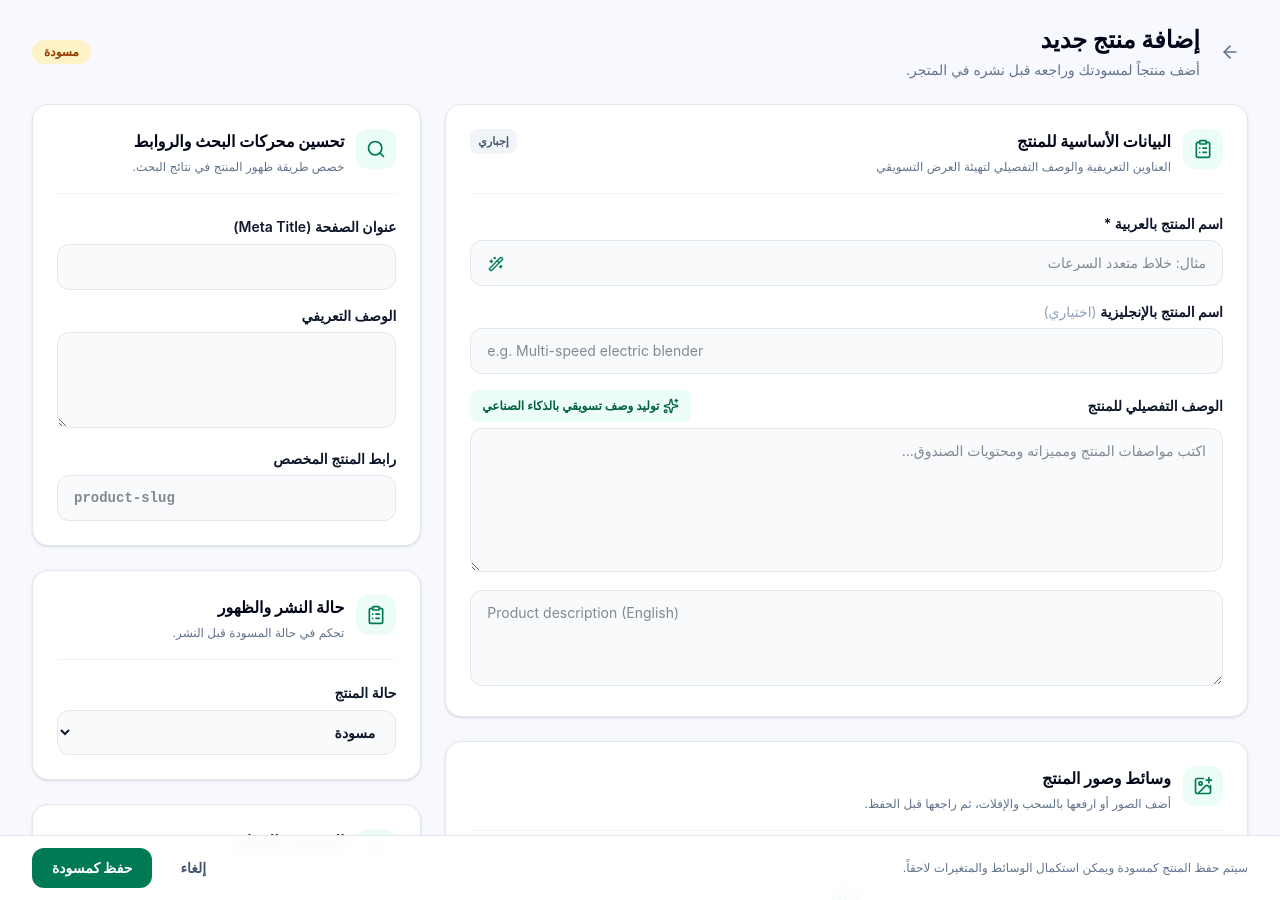
Test case: New seller product slug generation › updates the complete slug while the product name is being entered
Expected: the heading "إضافة منتج جديد" is shown, [1040, 25, 1200, 54]
Type "P" into the field with test id "product-name-en".
click(847, 351); type("P")  # box [470, 328, 1223, 374]
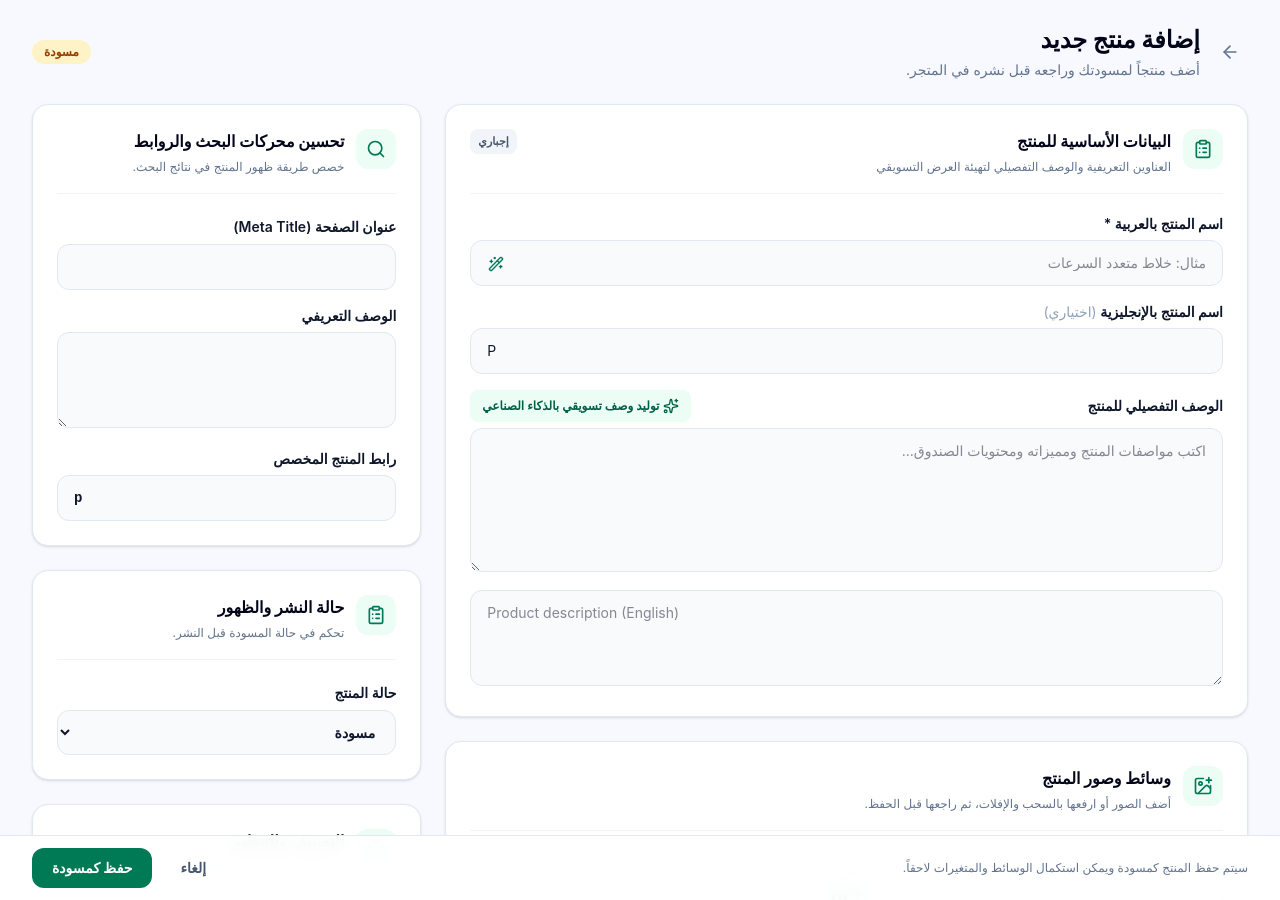
Replace the text in the field with test id "product-name-en" with "Pr" at [847, 351], box [470, 328, 1223, 374]
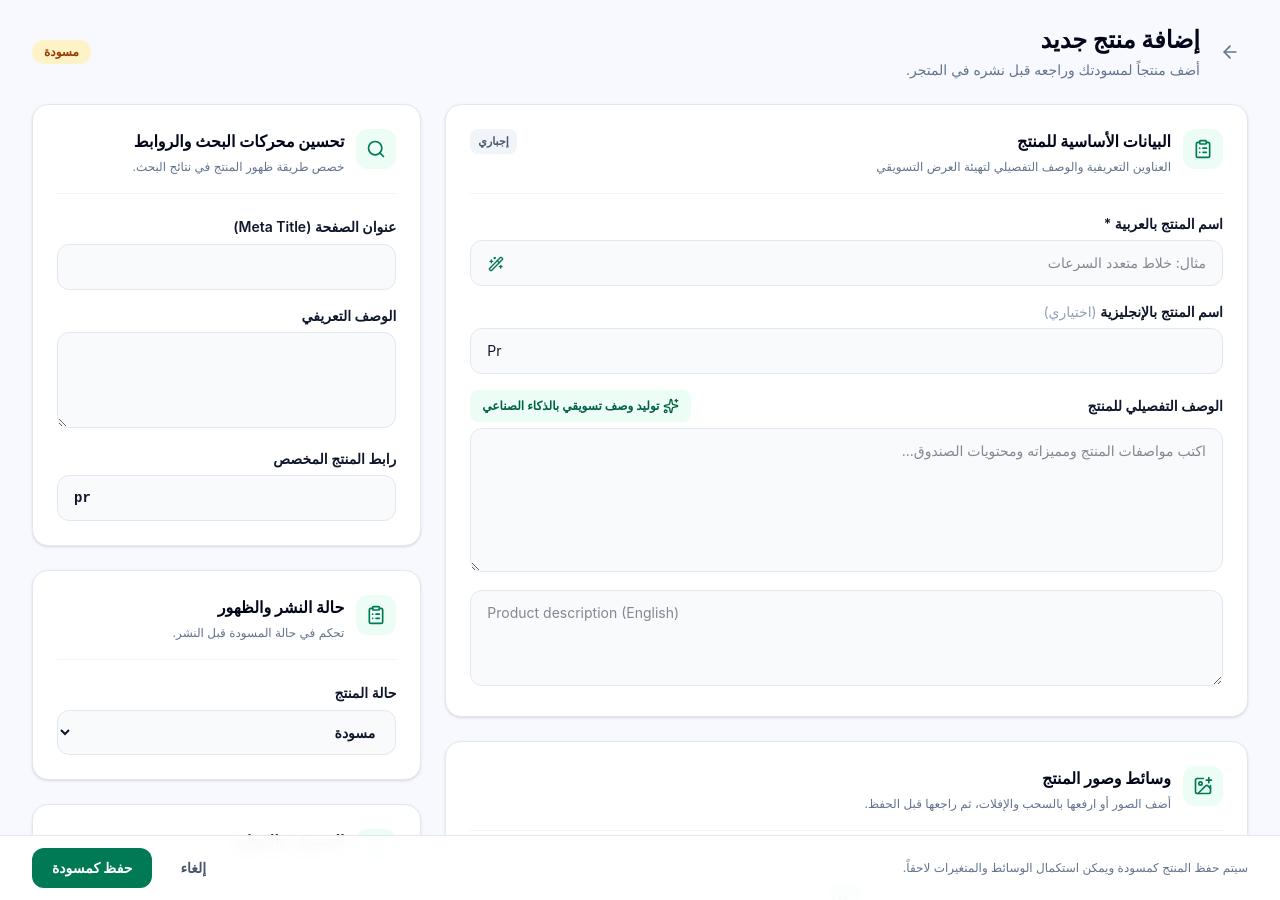
Replace the text in the field with test id "product-name-en" with "Pre" at [847, 351], box [470, 328, 1223, 374]
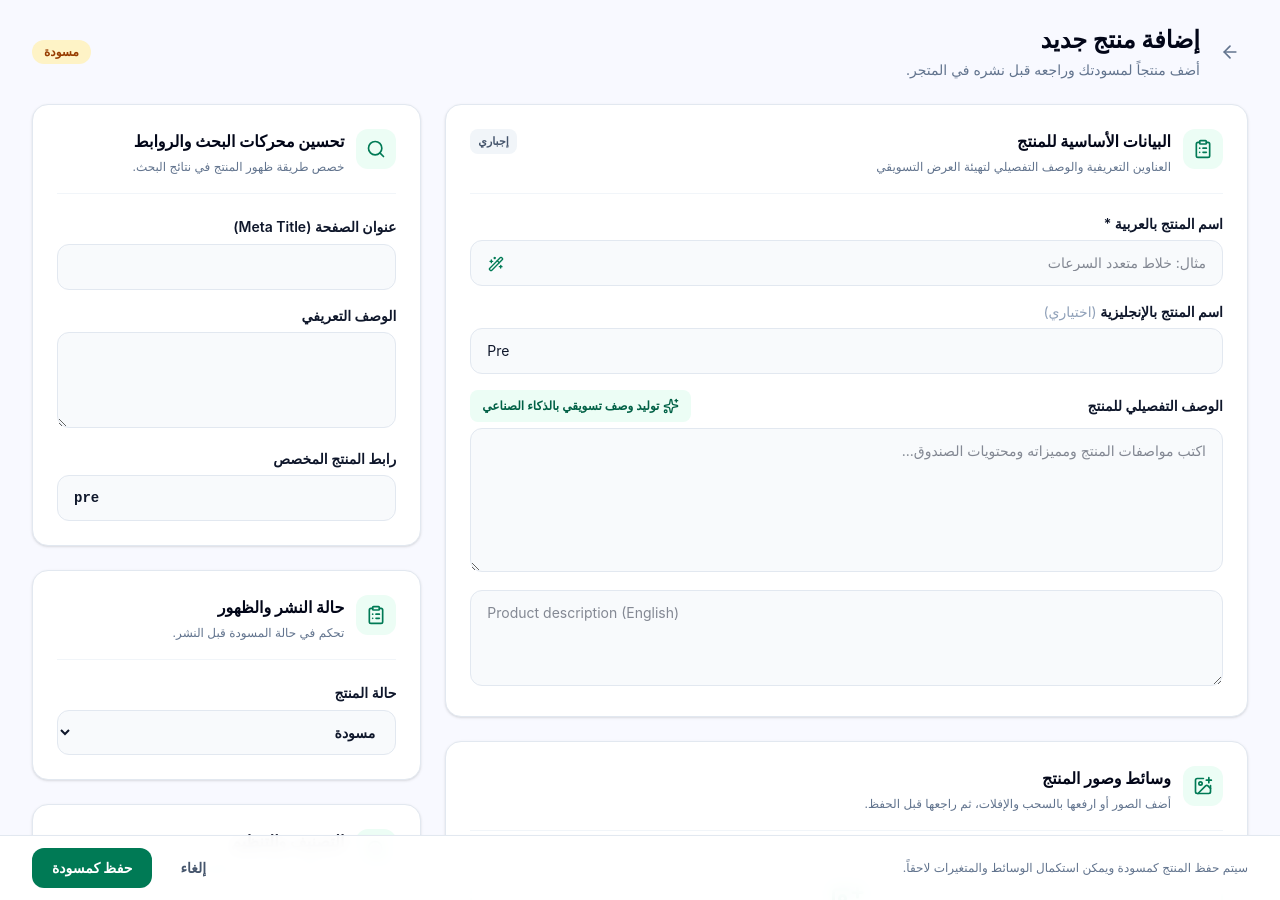
Replace the text in the field with test id "product-name-en" with "Premium" at [847, 351], box [470, 328, 1223, 374]
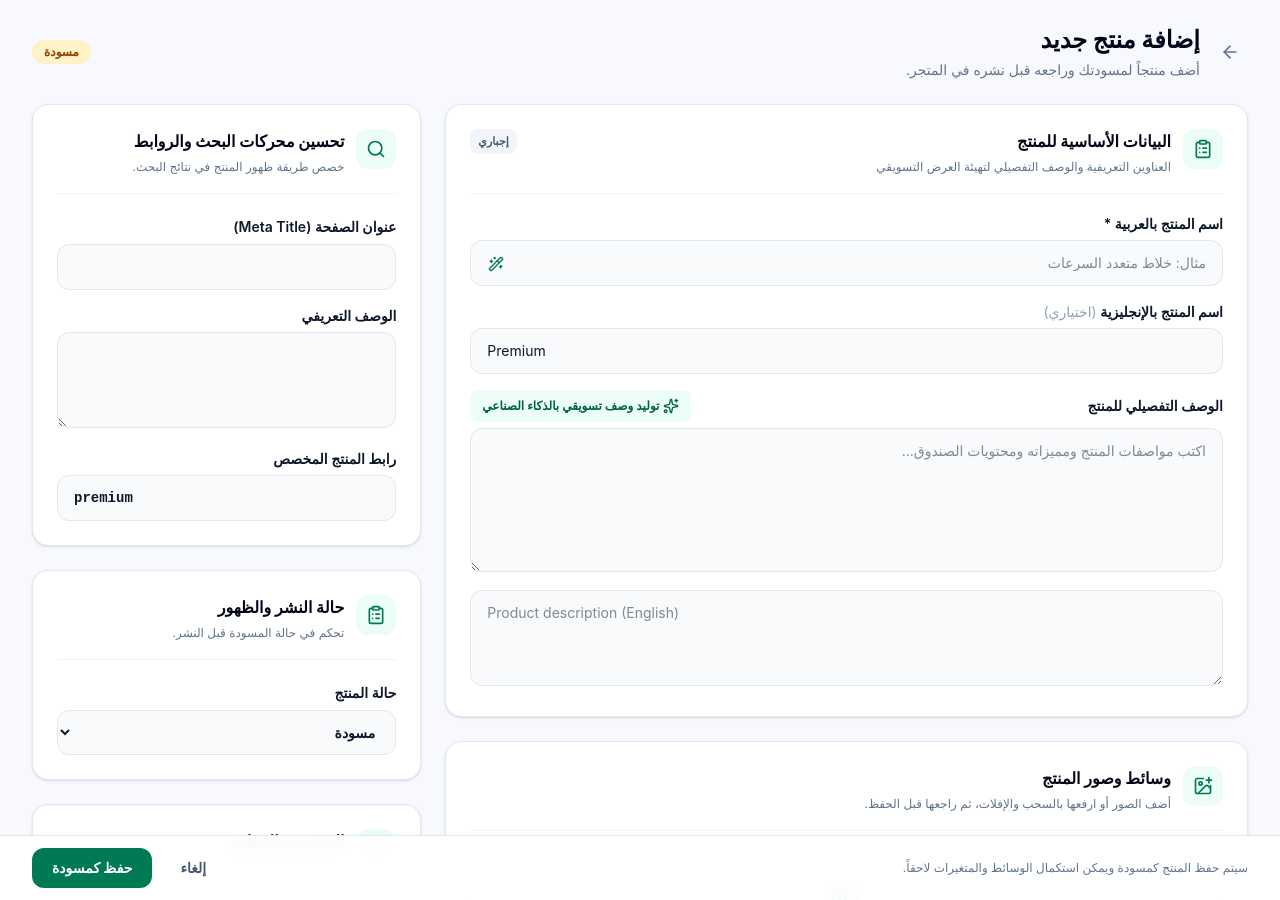
Replace the text in the field with test id "product-name-en" with "Premium Cotton" at [847, 351], box [470, 328, 1223, 374]
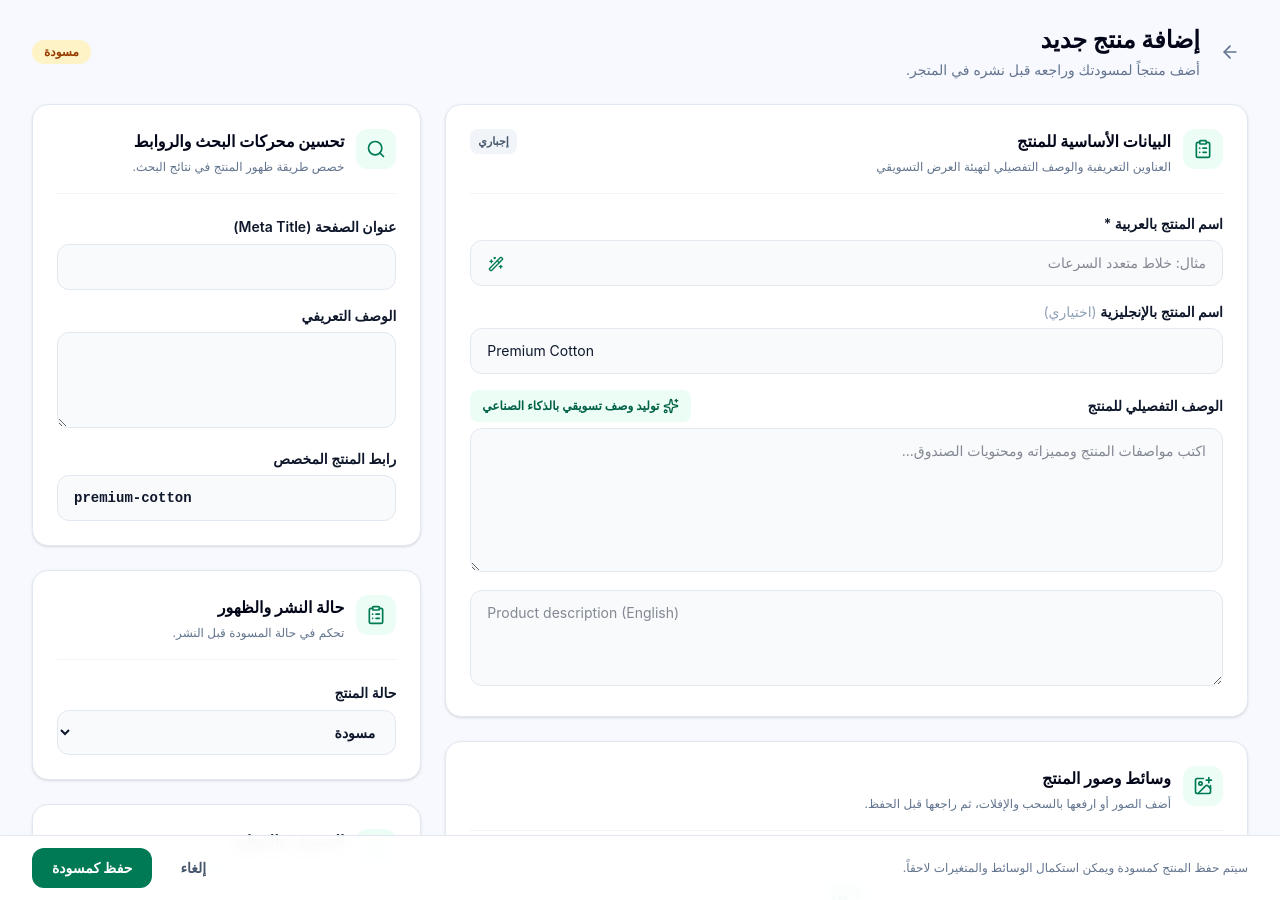
Replace the text in the field with test id "product-name-en" with "Premium Cotton T-Shirt" at [847, 351], box [470, 328, 1223, 374]
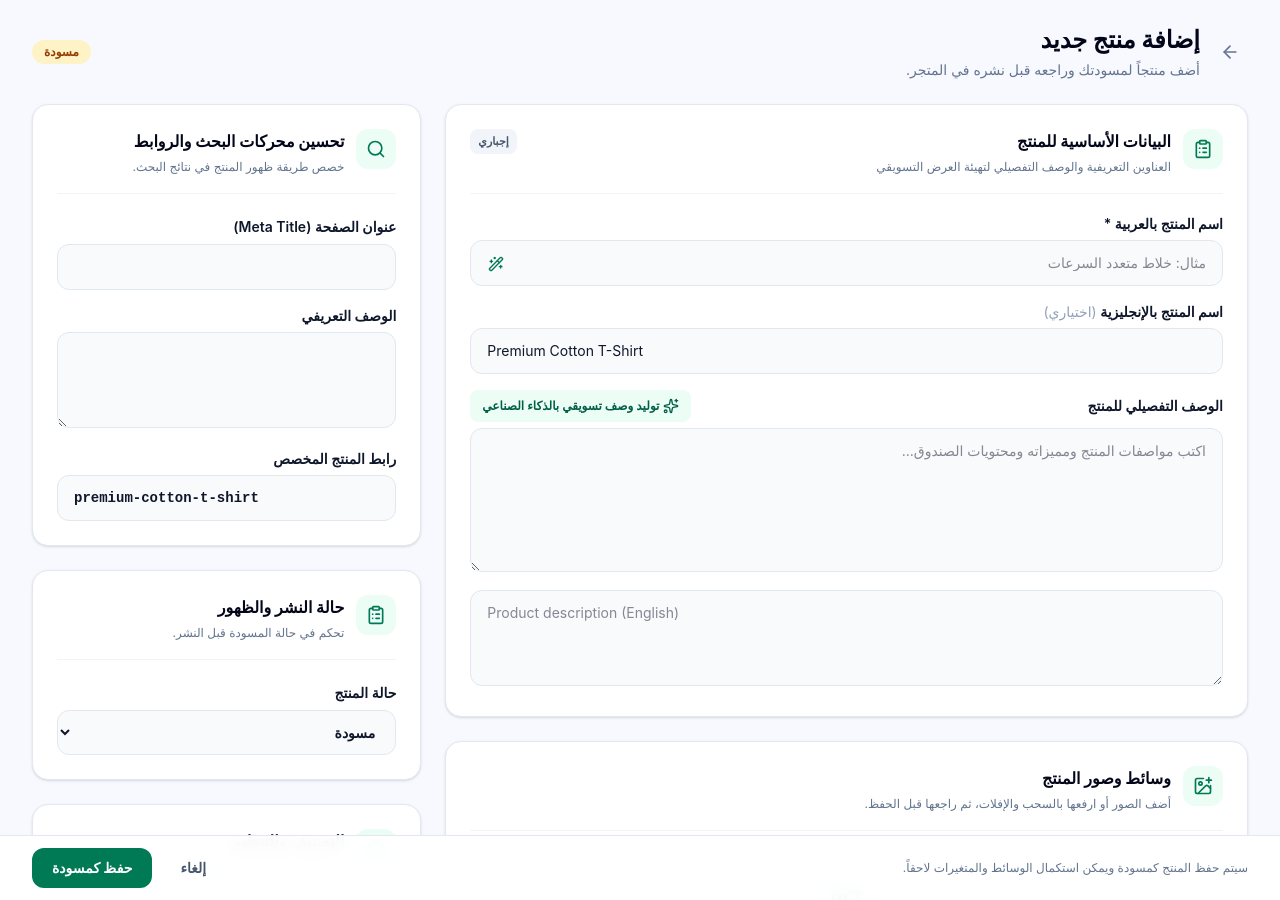
Expected: the field with test id "product-slug" holds "premium-cotton-t-shirt", [57, 475, 396, 521]
